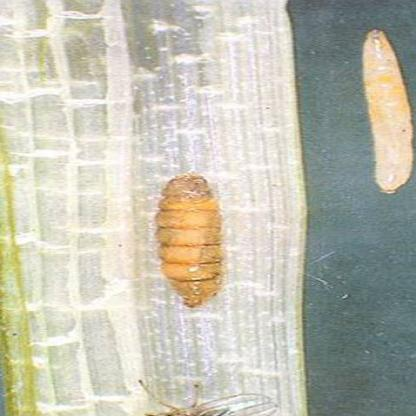whorl-maggot: (140, 169, 242, 318), (350, 22, 416, 198)
